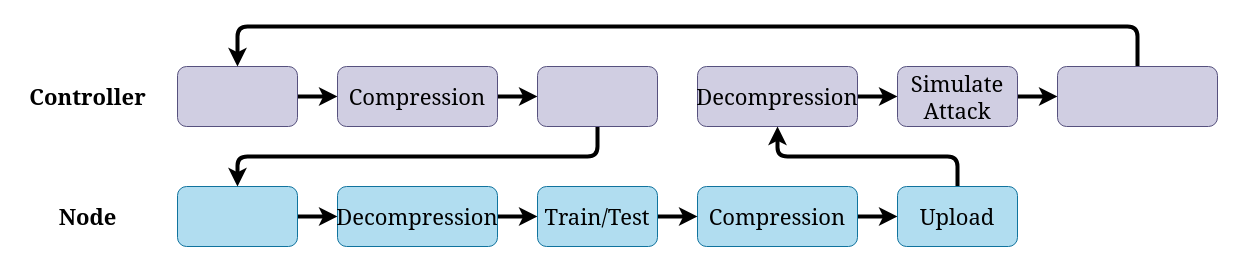
The diagram is 1235 pixels wide and 264 high, and some of its shapes have lost their labels. The shapes that lost their labels are listed below. From the top down, each one's centre as x and y in pixels, then its label:
At (237,96): "Selection".
At (597,96): "Federated".
At (1137,96): "Simulate Aggregation".
At (237,216): "Download".
